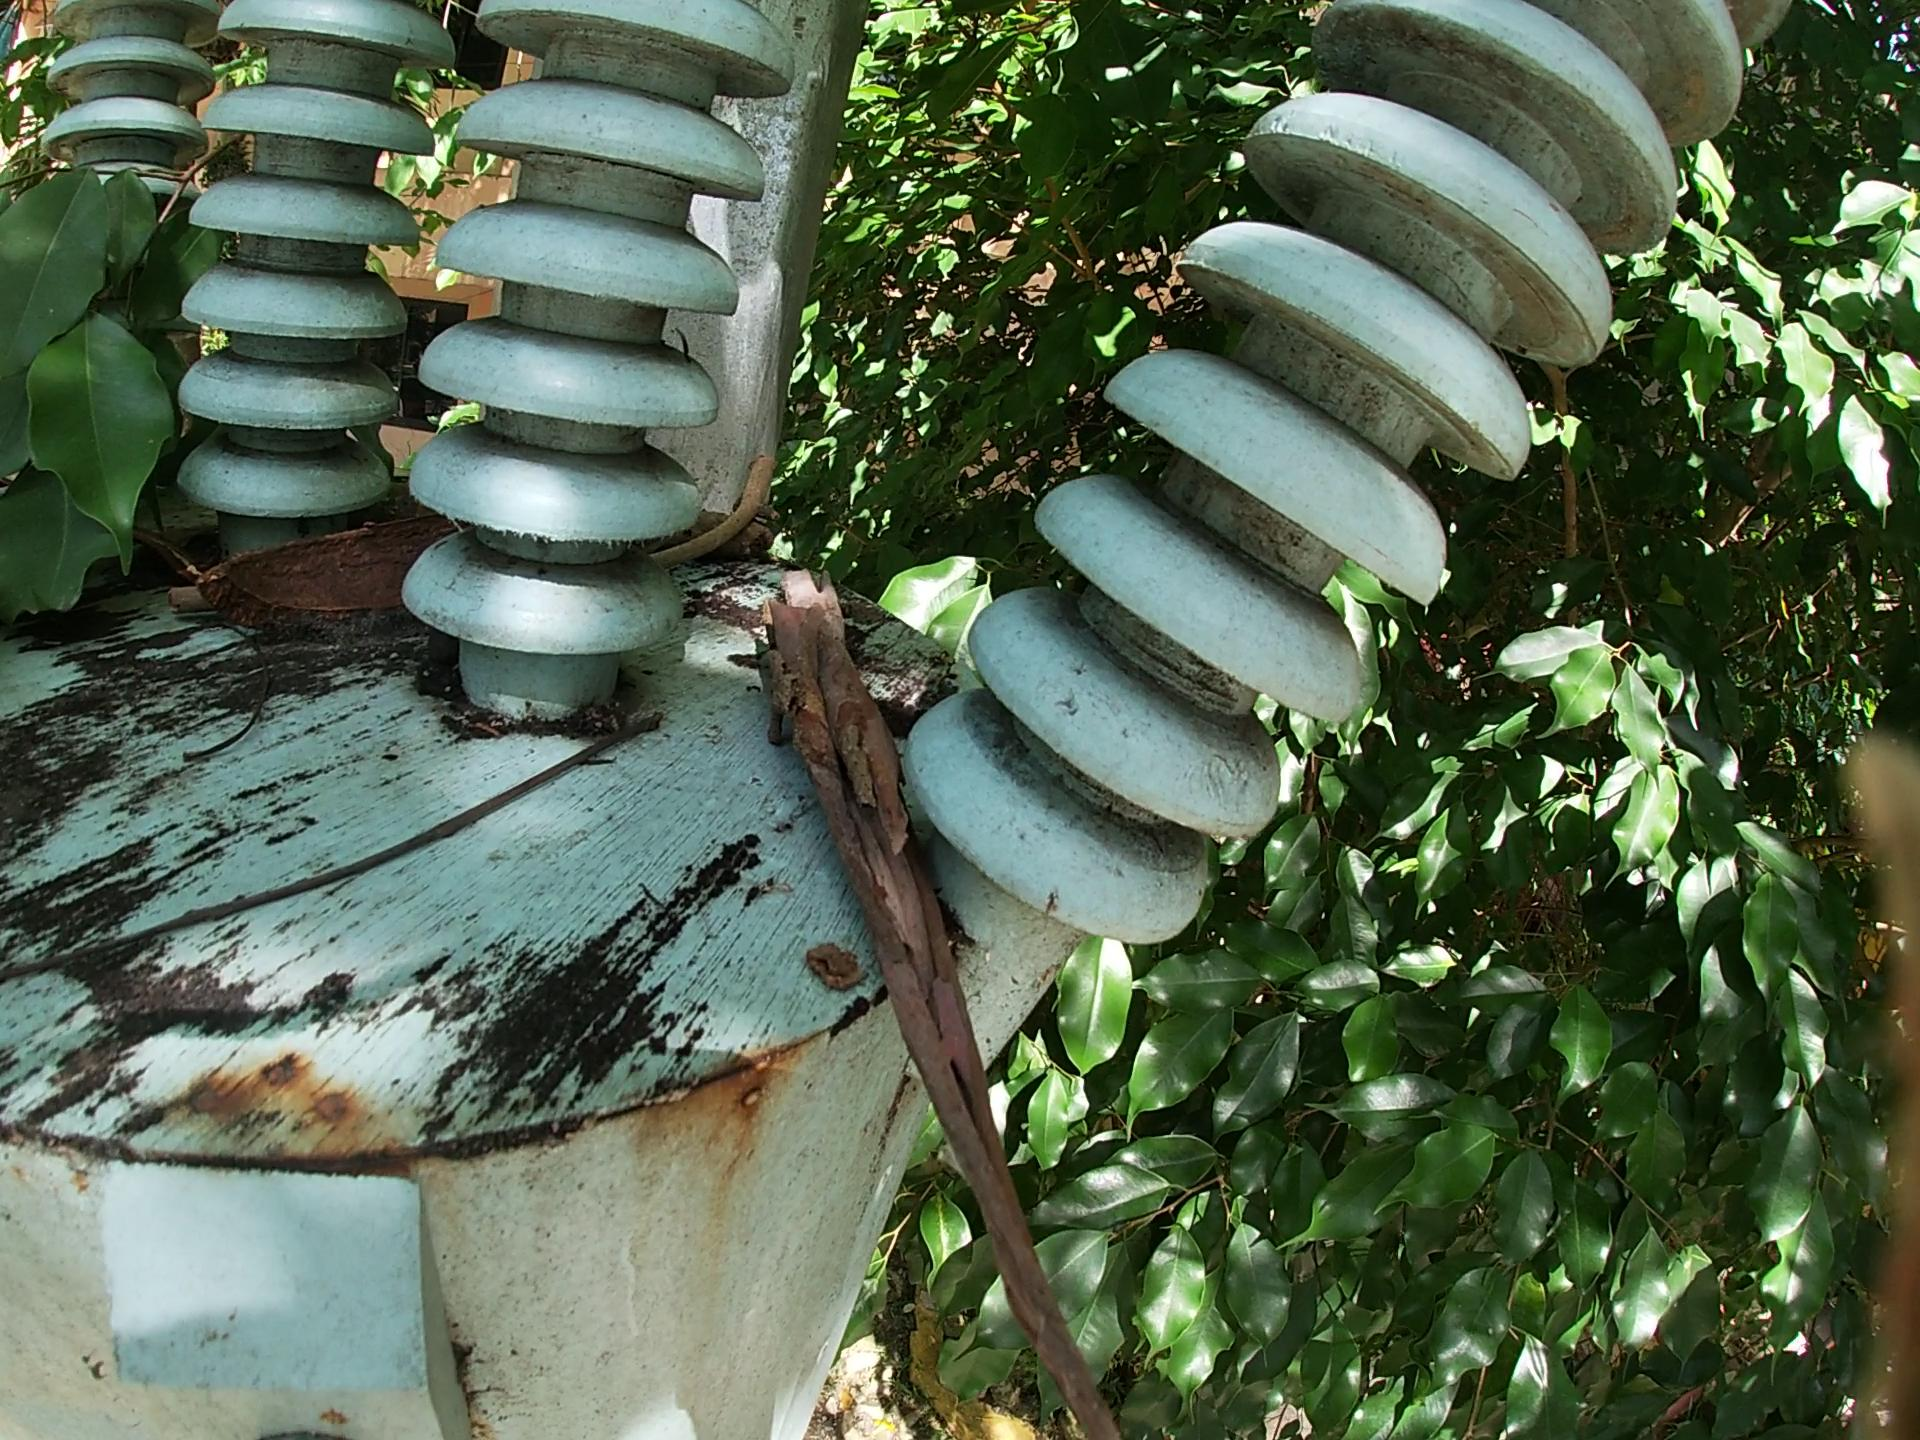branch with leaves: (2, 107, 246, 672)
mahogany fruit: (184, 519, 466, 622)
tree branch: (753, 551, 1185, 1423), (2, 675, 677, 1004), (159, 601, 272, 784), (653, 452, 795, 588), (650, 501, 788, 555)
